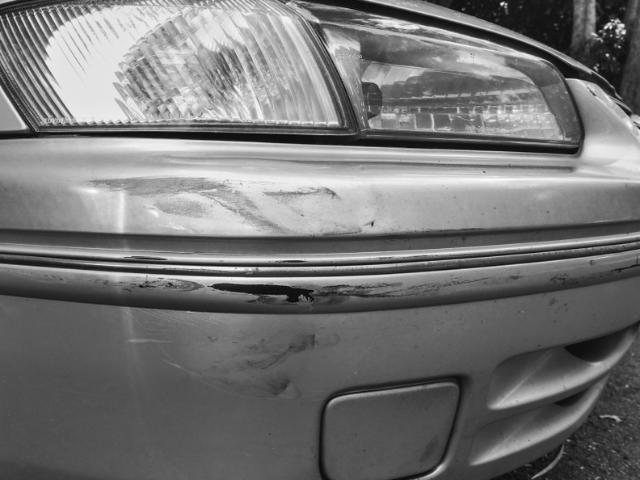Bumper: (72, 149, 418, 445)
